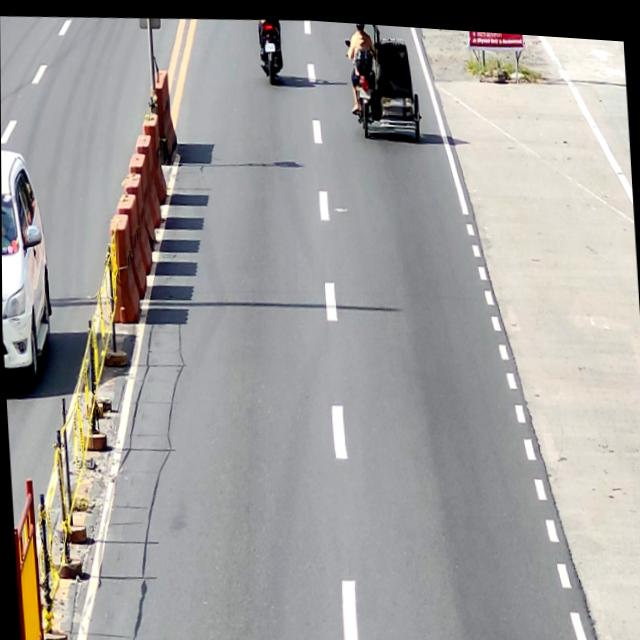Car: (1, 146, 58, 390)
License-Plate: (358, 82, 371, 94), (264, 38, 276, 49)
Motorcycle: (258, 15, 285, 82)
Tricycle: (343, 18, 424, 141)
